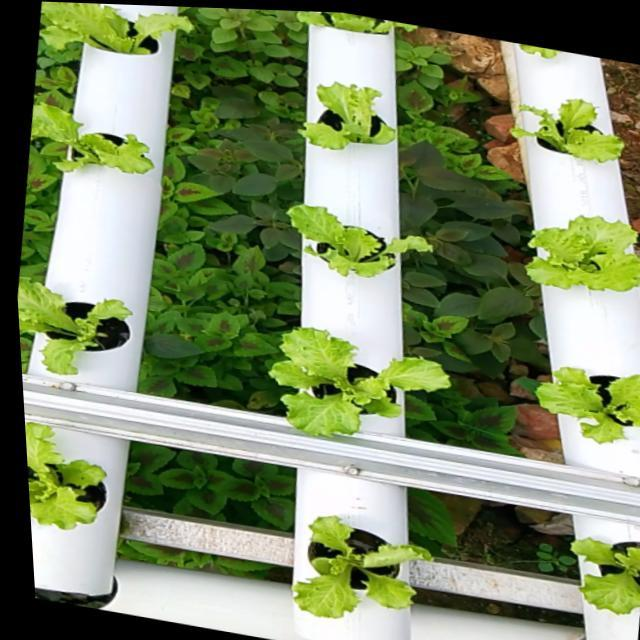Baby: (267, 324, 454, 435), (291, 517, 435, 622), (286, 198, 436, 273), (18, 273, 127, 373), (31, 92, 150, 166), (530, 210, 640, 289), (25, 422, 101, 530), (540, 365, 640, 443), (515, 91, 632, 156), (299, 73, 399, 142), (39, 2, 188, 45), (577, 539, 640, 618)
